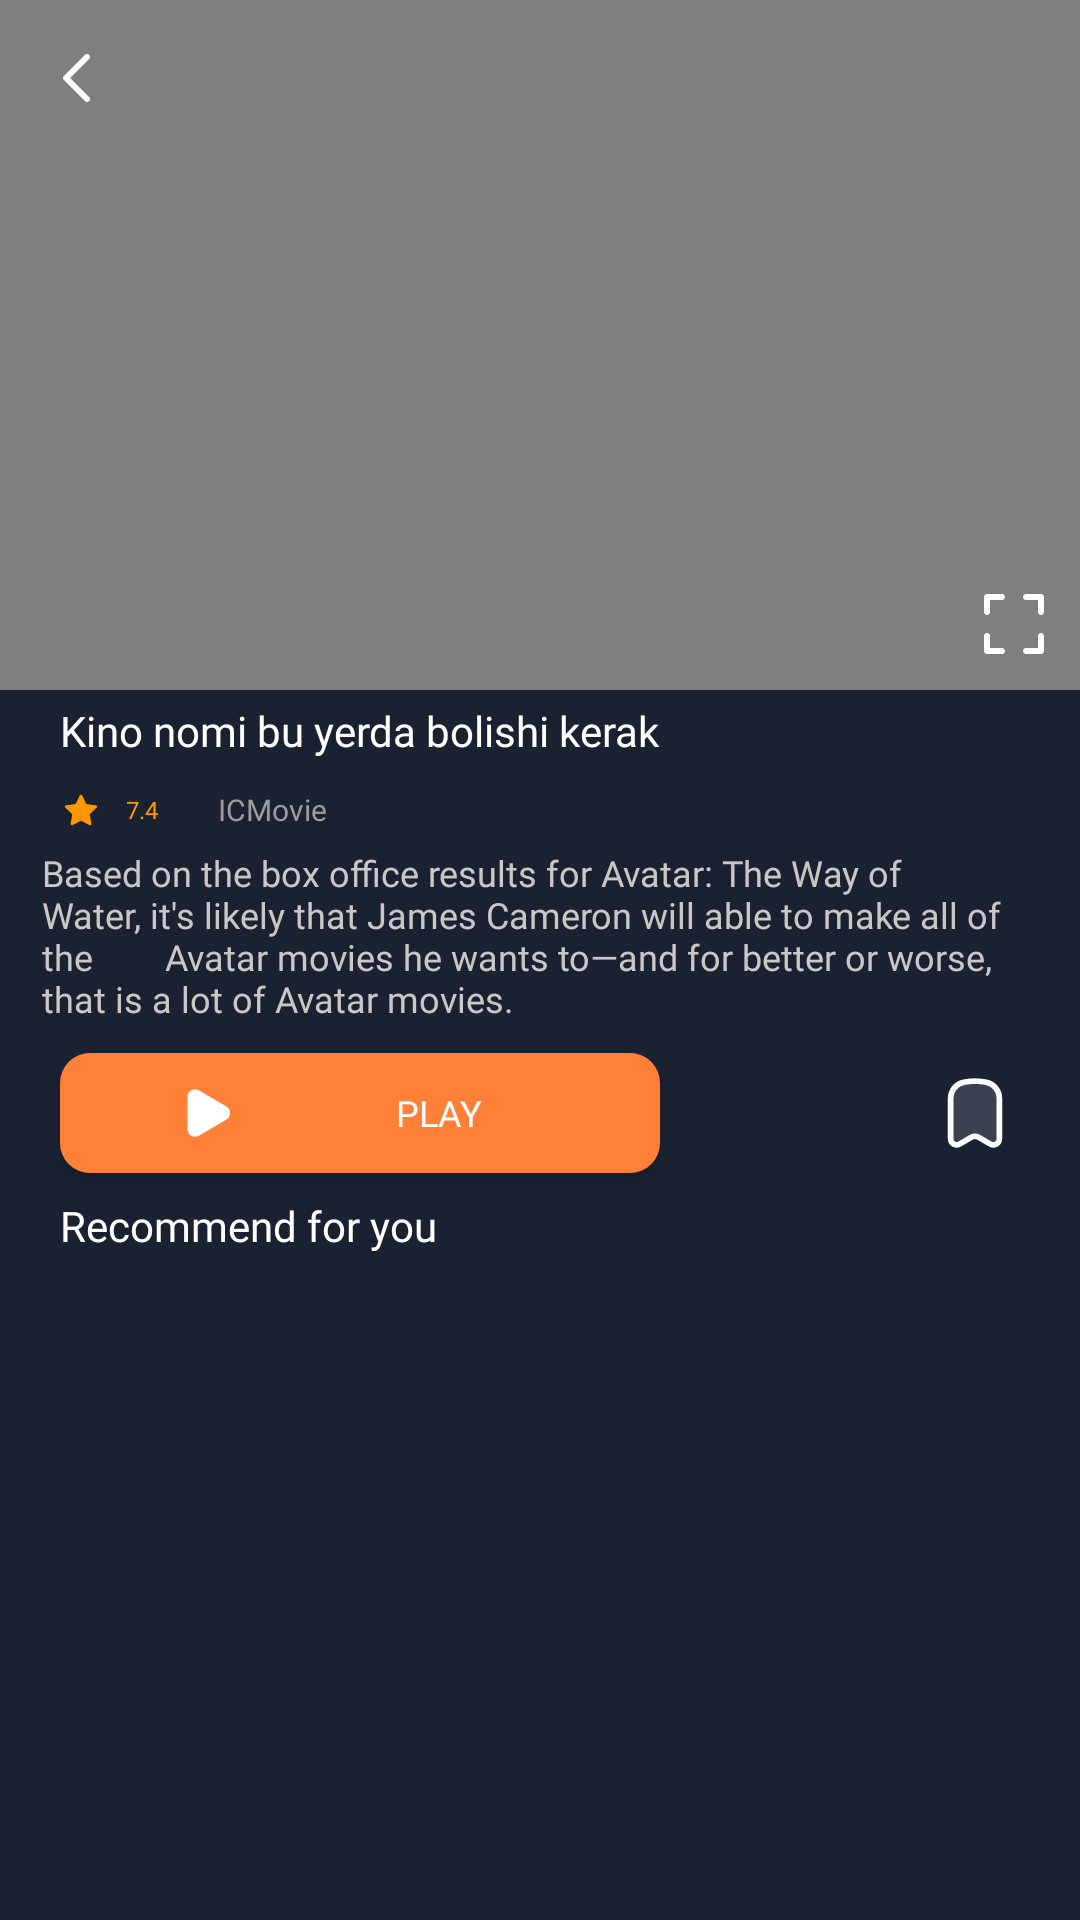

Where icons sit on this 1080 × 1920 app screen, as rect(x1, y1, x2, y2):
left chevron: rect(63, 54, 90, 102)
saved: rect(947, 1078, 1003, 1148)
star rate: rect(65, 794, 97, 826)
